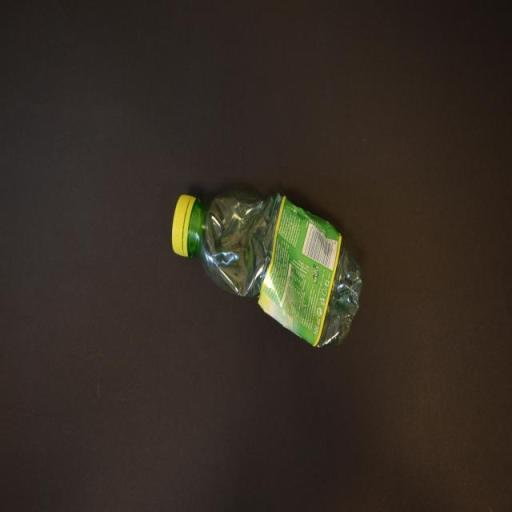plastic: (172, 193, 364, 350)
